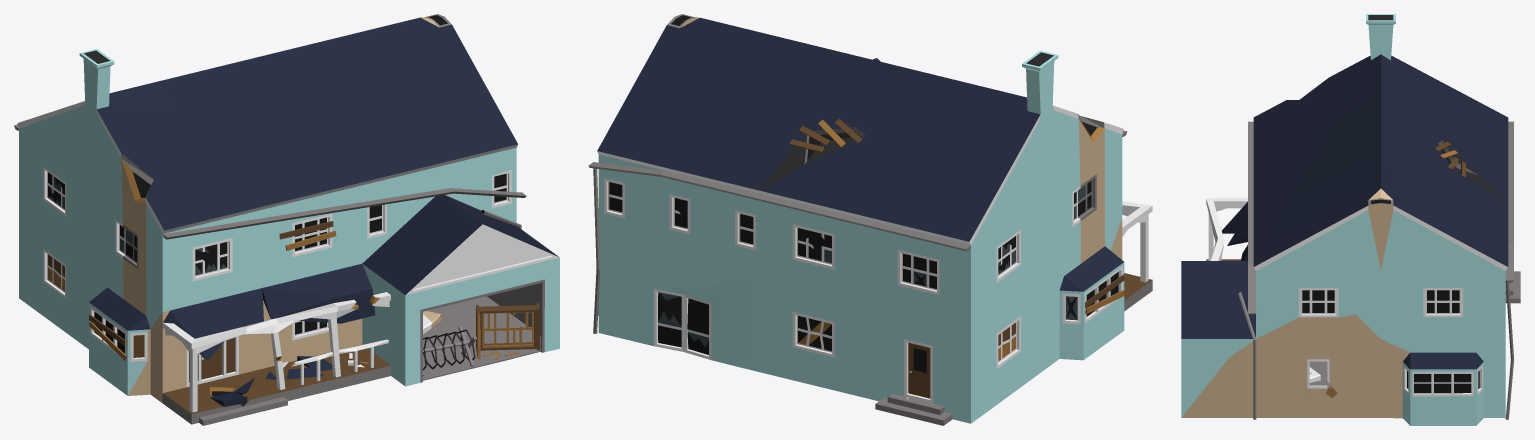
File: apocalypse_building-house-family-large-apocalypse.fbx
The picture shows the model from 3 angles, left to right: view 1: azimuth 30°, elevation 25°; view 2: azimuth 150°, elevation 25°; view 3: azimuth 270°, elevation 25°; orthographic projection. The views are drawn at different scales.
Visible parts, largest first — view 1: apocalypse_building_house_family_large_apocalypse; view 2: apocalypse_building_house_family_large_apocalypse; view 3: apocalypse_building_house_family_large_apocalypse.
Part boxes in pixels (x1,y1,x2,y2): apocalypse_building_house_family_large_apocalypse: (14, 14, 559, 425); apocalypse_building_house_family_large_apocalypse: (588, 14, 1152, 425); apocalypse_building_house_family_large_apocalypse: (1181, 14, 1520, 425).
Size of the model in its own units: 200 by 142 by 173.
